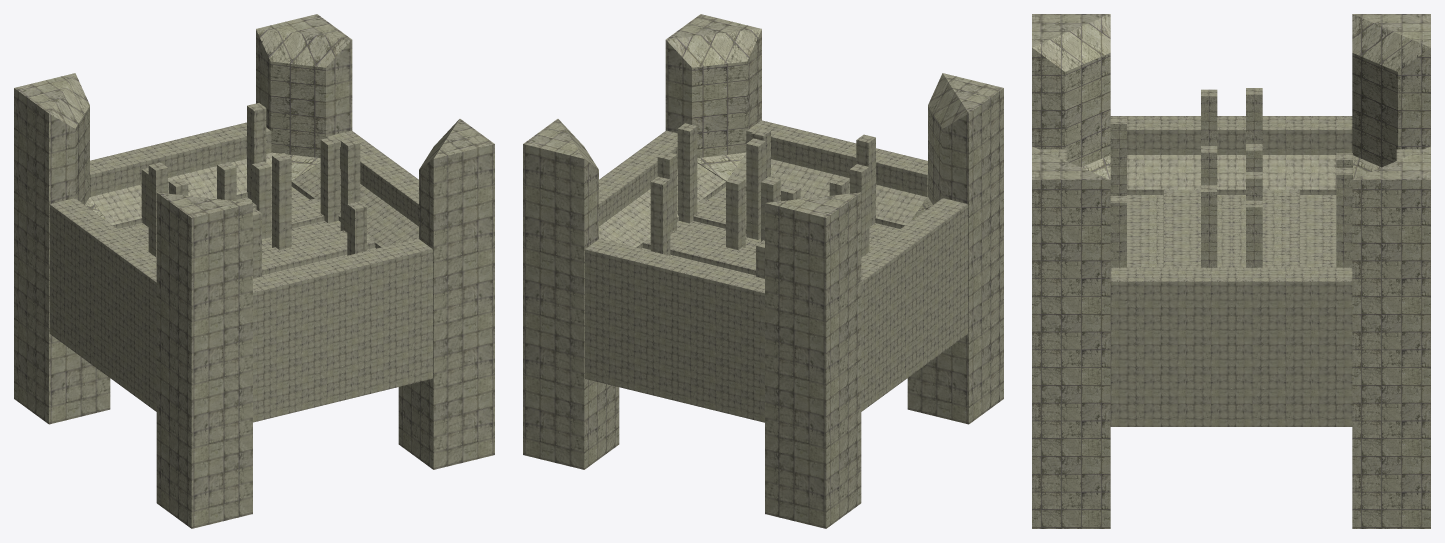
Rendered from SM_LDFest_05_01.fbx.
3 views of the same model, side by side, from view 1: azimuth 30°, elevation 25°; view 2: azimuth 150°, elevation 25°; view 3: azimuth 270°, elevation 25° (orthographic). The views are drawn at different scales.
Parts seen in each view (by area): view 1: SM_LDFest_05_01; view 2: SM_LDFest_05_01; view 3: SM_LDFest_05_01.
Boxes of the visible parts, bbox=[...] form: SM_LDFest_05_01: bbox=[14, 14, 494, 528]; SM_LDFest_05_01: bbox=[523, 14, 1003, 528]; SM_LDFest_05_01: bbox=[1032, 14, 1430, 528].
Size of the model in its own units: 6618 by 6488 by 6717.
